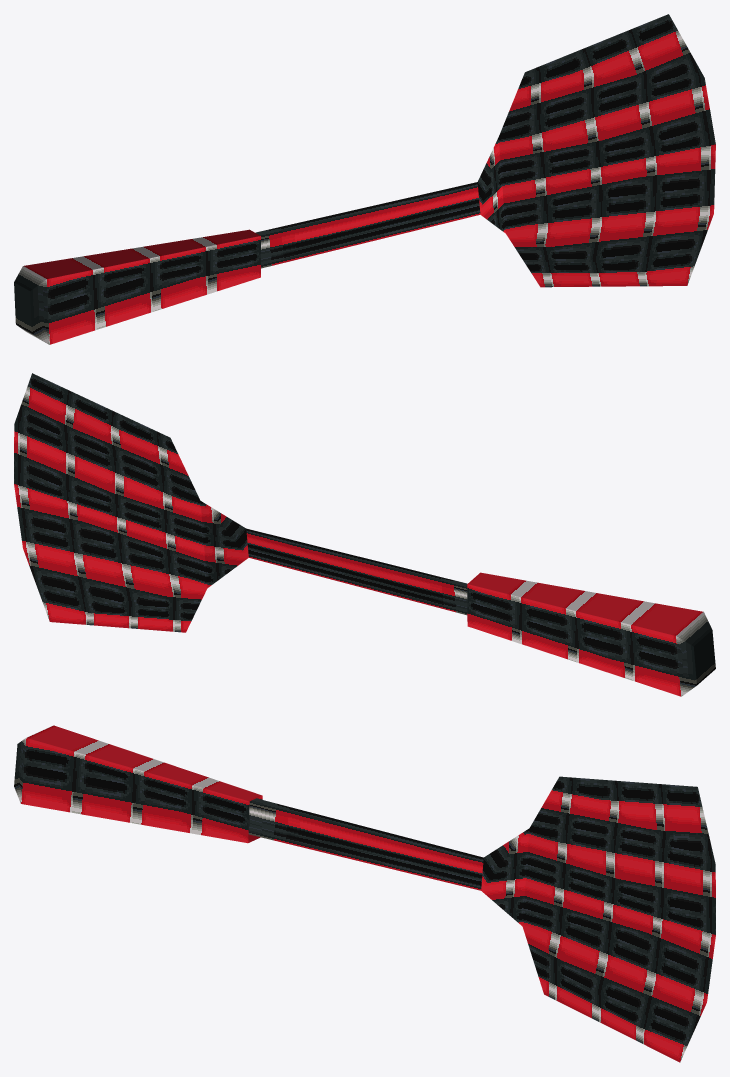
File: 2760item2760.gltf
The picture shows the model from 3 angles, top to bottom: view 1: azimuth 30°, elevation 25°; view 2: azimuth 150°, elevation 25°; view 3: azimuth 330°, elevation 25°; orthographic projection.
Parts seen in each view (by area): view 1: 2760item2760; view 2: 2760item2760; view 3: 2760item2760.
Boxes of the visible parts, x1,y1,x2,y2 form: 2760item2760: (14,14,715,344); 2760item2760: (14,373,715,696); 2760item2760: (14,725,715,1062).
Size of the model in its own units: 0.7381 by 0.2652 by 0.0548.
Materials: 1 (1 with a texture image).
